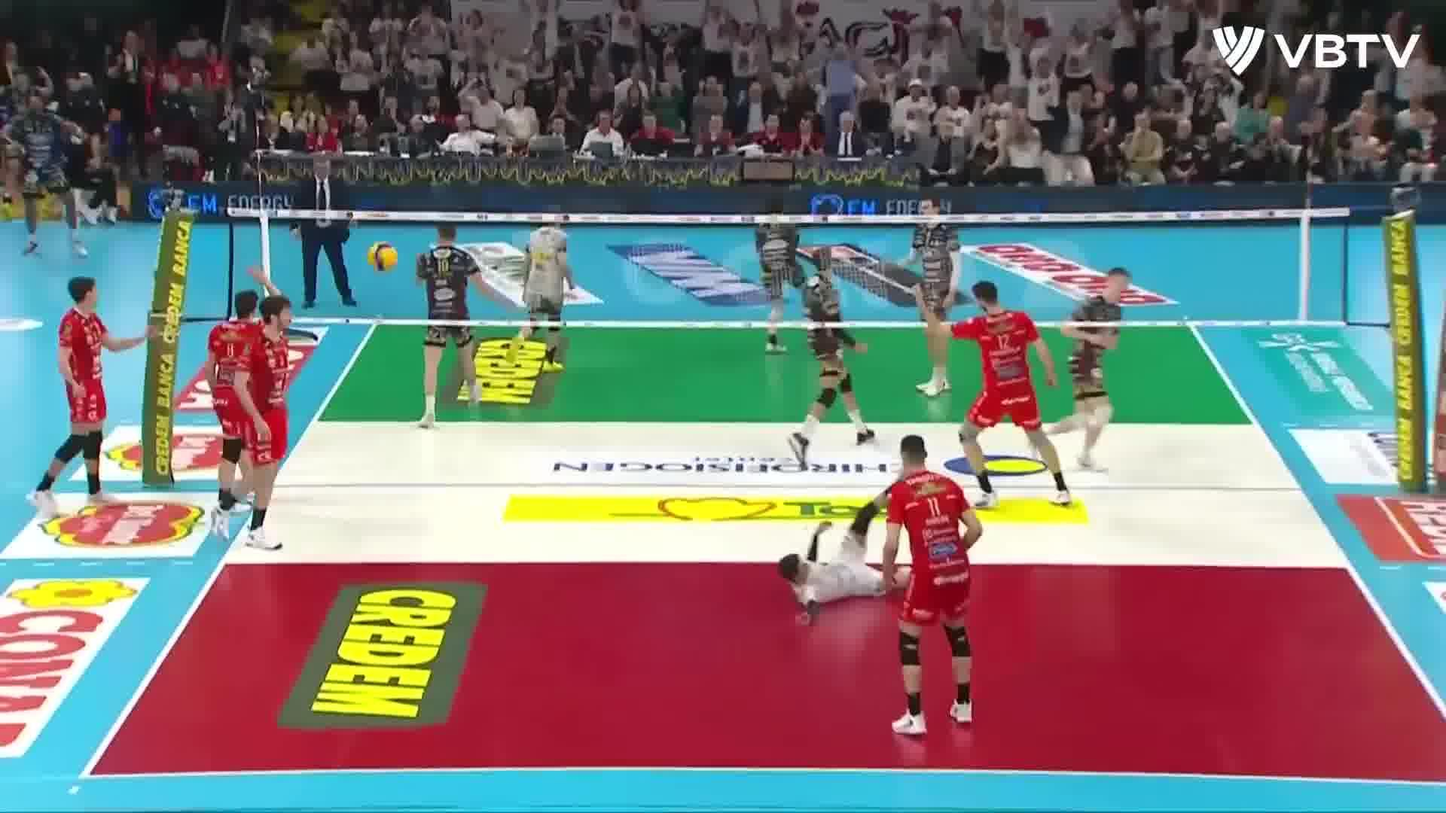balls: (366, 239, 400, 274)
